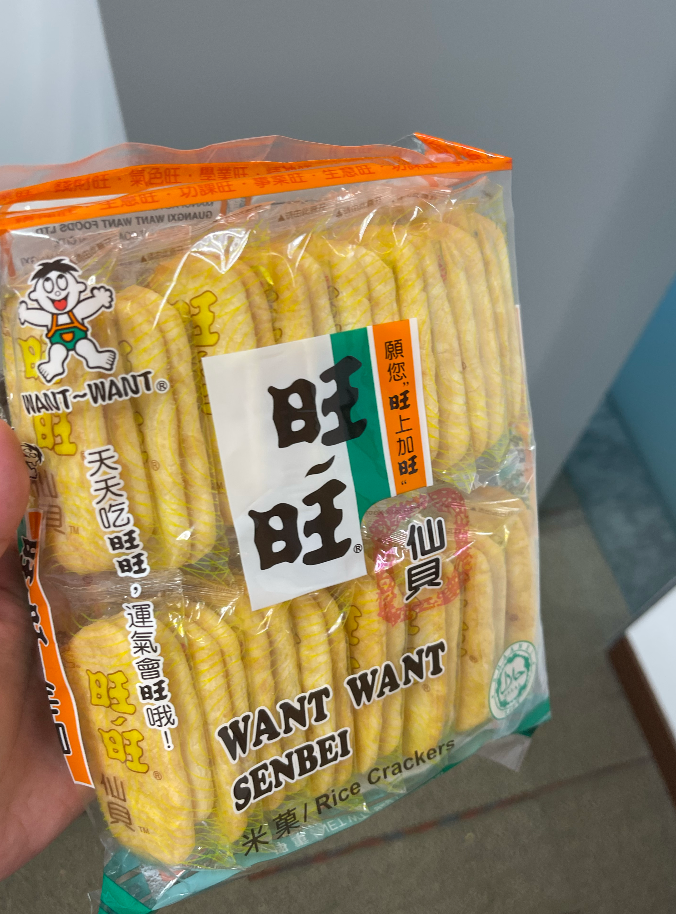crackers_1g-99g: (45, 206, 535, 816)
